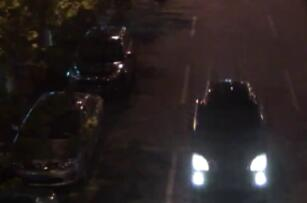car: (185, 69, 274, 196), (5, 82, 106, 193), (64, 22, 135, 102)
